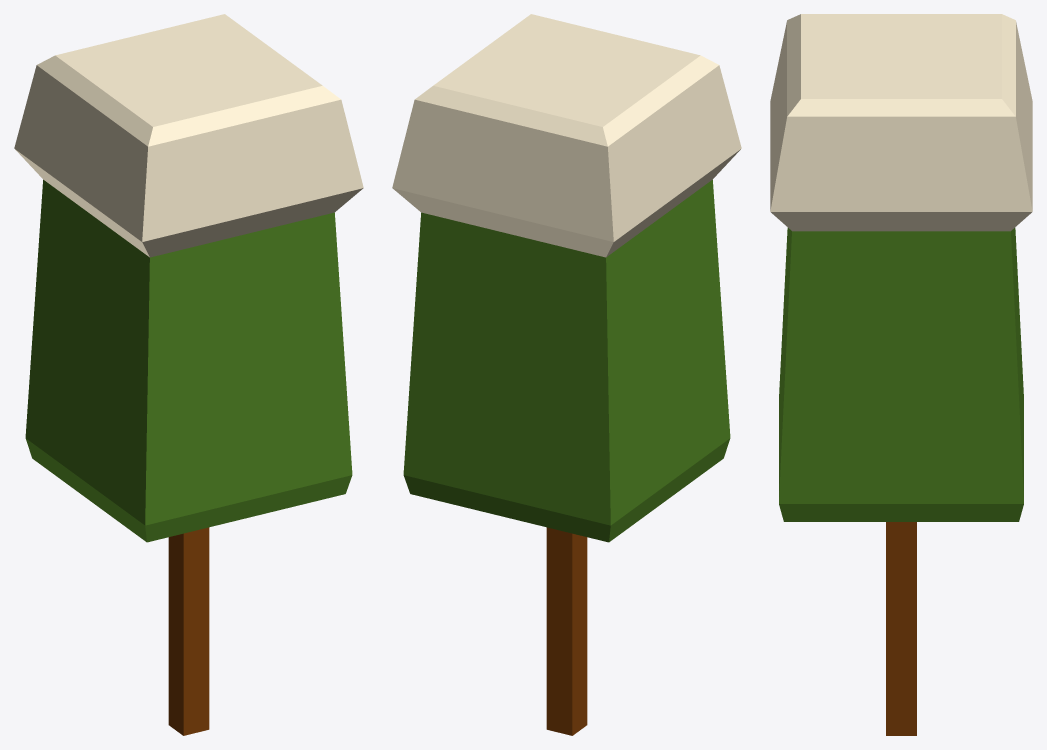
File: Tree_35_Winter.fbx
The picture shows the model from 3 angles, left to right: view 1: azimuth 30°, elevation 25°; view 2: azimuth 150°, elevation 25°; view 3: azimuth 270°, elevation 25°; orthographic projection. The views are drawn at different scales.
Visible parts, largest first — view 1: Tree_35_Winter; view 2: Tree_35_Winter; view 3: Tree_35_Winter.
Part boxes in pixels (<box>): Tree_35_Winter: <box>14,14,363,735</box>; Tree_35_Winter: <box>392,14,741,735</box>; Tree_35_Winter: <box>770,14,1032,735</box>.
Size of the model in its own units: 121 by 342 by 121.
